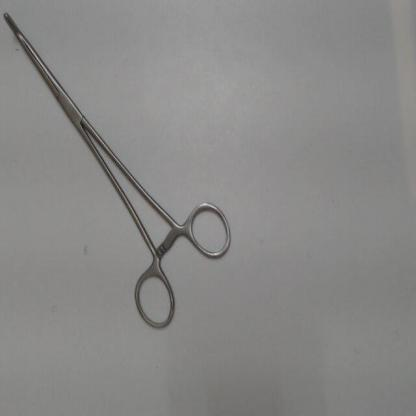Lahey Forceps: (1, 3, 236, 336)
